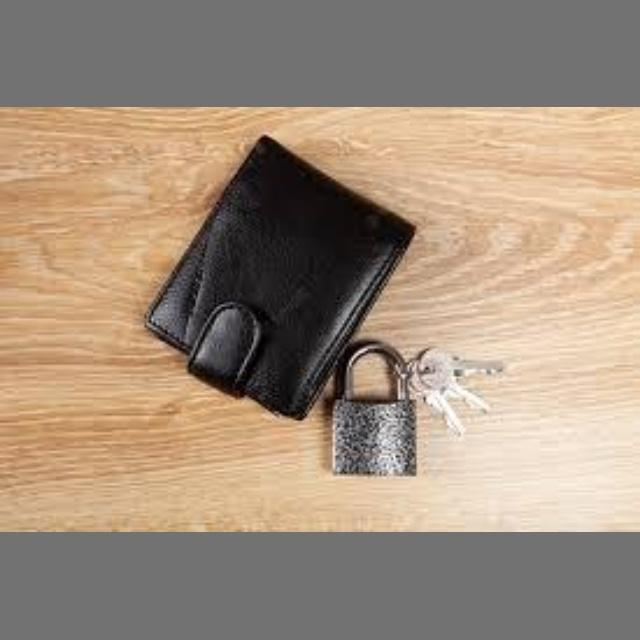Wallet: (137, 120, 419, 416)
